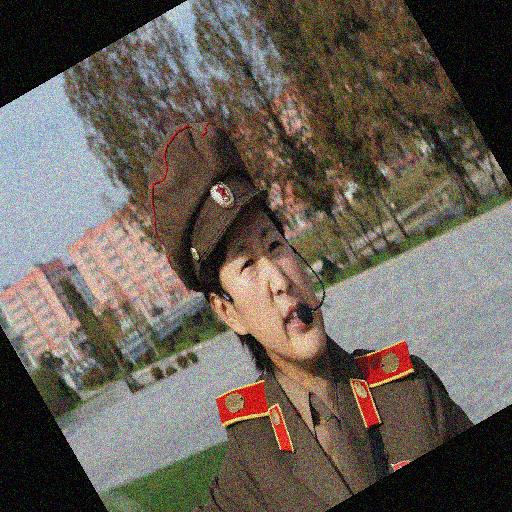north army: (69, 128, 512, 512)
